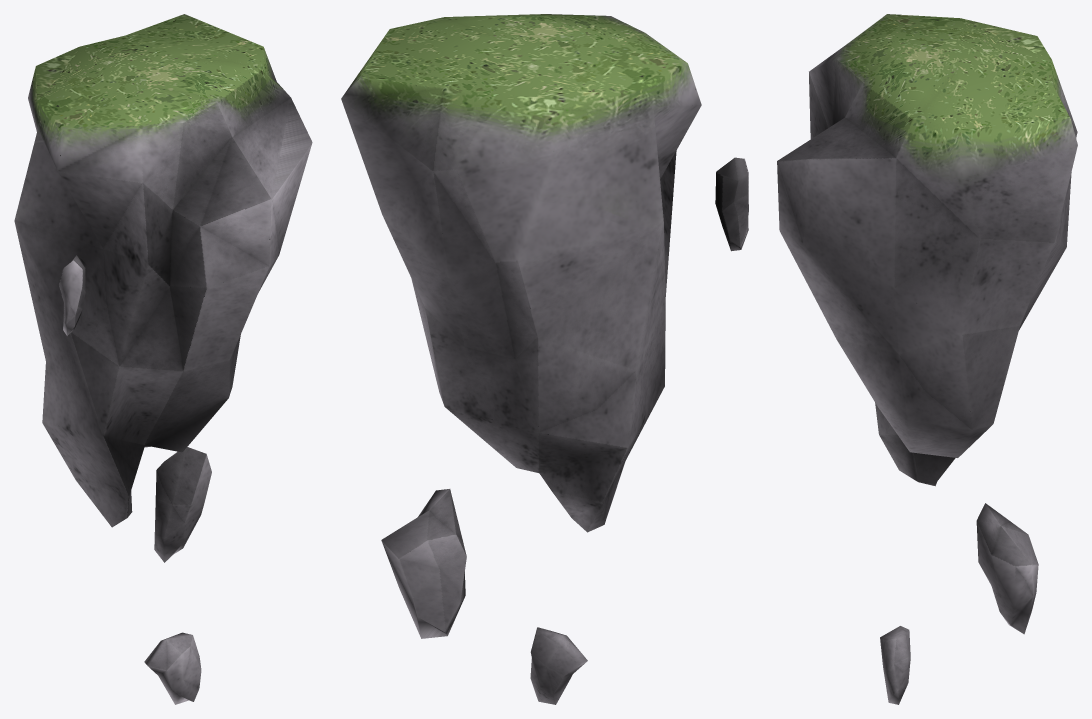
The model's file is Floating_Rock_Small_01.fbx.
The picture shows the model from 3 angles, left to right: view 1: azimuth 30°, elevation 25°; view 2: azimuth 150°, elevation 25°; view 3: azimuth 270°, elevation 25°; orthographic projection. The views are drawn at different scales.
Parts seen in each view (by area): view 1: pCube5; view 2: pCube5; view 3: pCube5.
Boxes of the visible parts, x1,y1,x2,y2 form: pCube5: (14,14,312,704); pCube5: (341,14,748,704); pCube5: (777,14,1077,704).
Bounding box in the file's own units: 3.19 × 6.78 × 2.89.
Materials: 1 (1 with a texture image).
